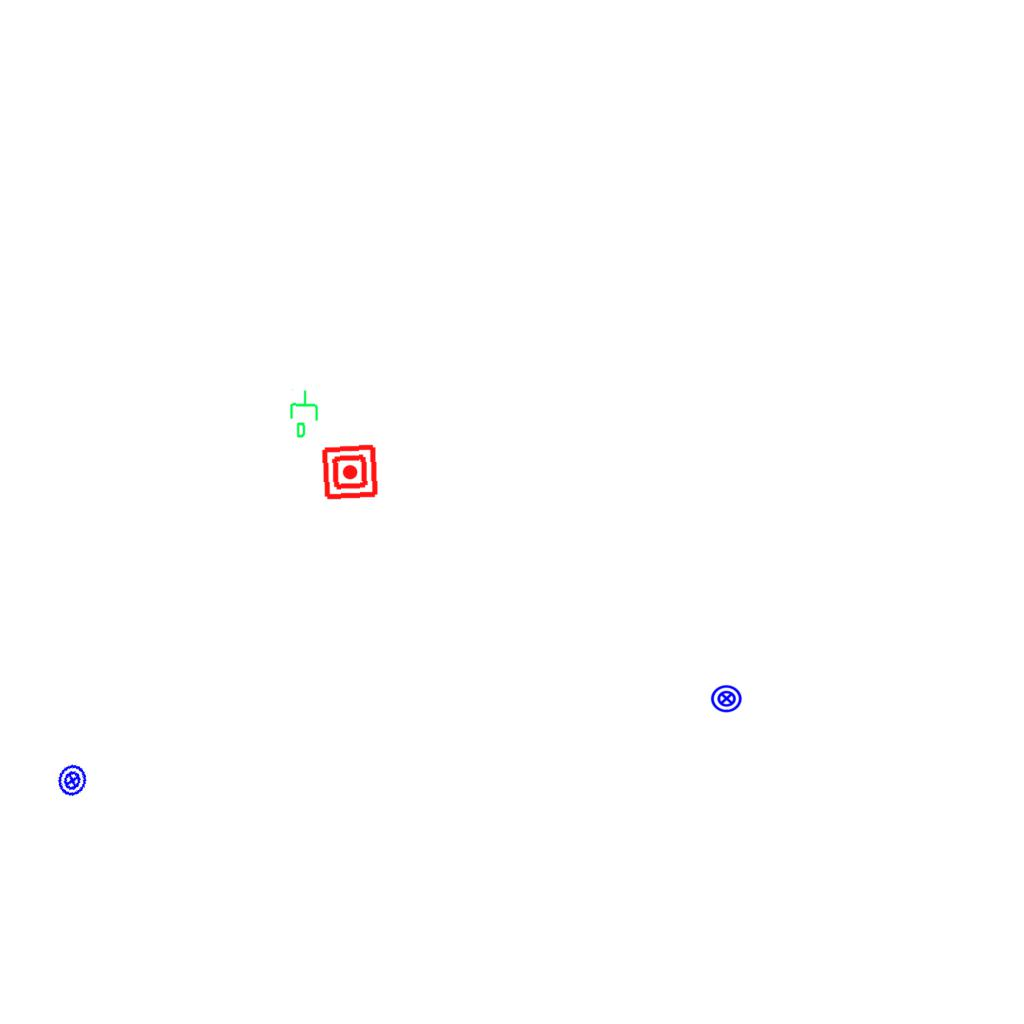Datenanschluss_einfach: (286, 388, 324, 440)
NAM-Nichtautomatischer_Melder: (320, 442, 380, 502)
Taster_beleuchtet: (52, 760, 93, 801), (710, 682, 743, 715)
